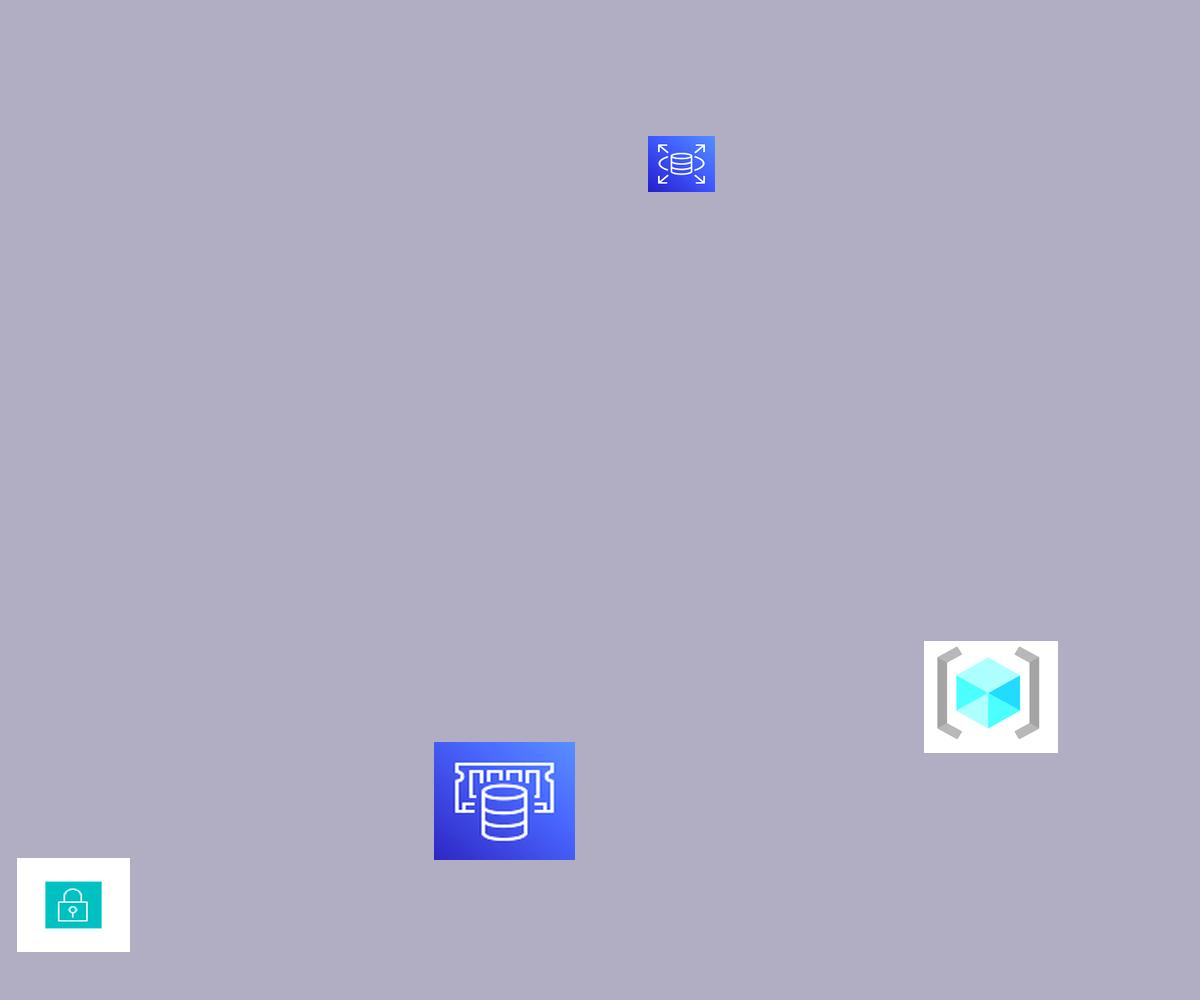AWS-ElastiCache: (434, 742, 575, 860)
AWS-Private-subnet: (17, 858, 130, 952)
AWS-RDS: (648, 136, 715, 192)
Azure_resource_group: (924, 641, 1058, 753)
